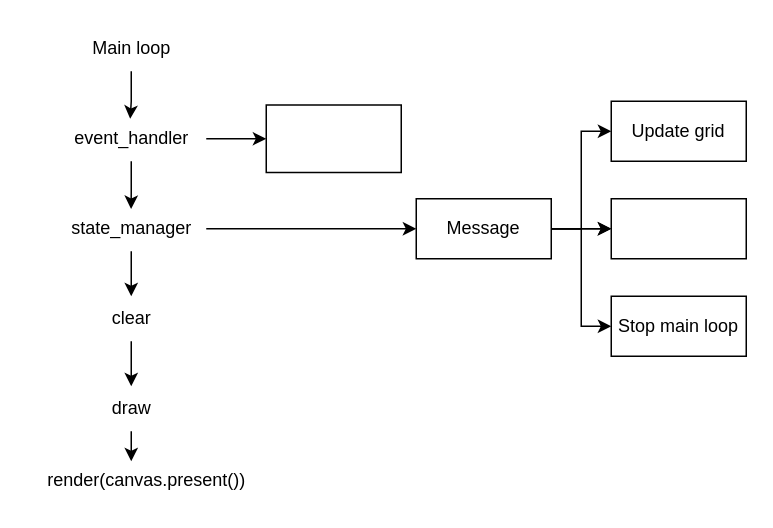
This 773x528 diagram has some shape labels left out. Here are the shapes that lost their labels. From the top down, the centre of each, then its label:
point (333, 138): Input: Mouse event
point (678, 228): Continue main loop
